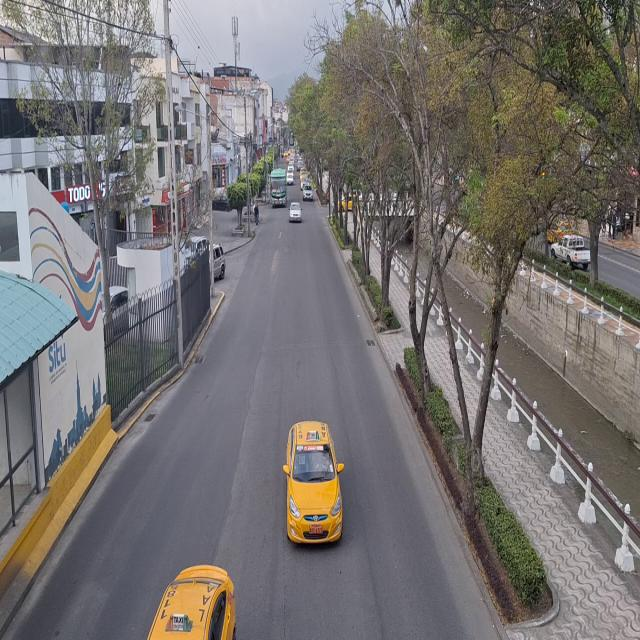BUS: (271, 169, 287, 205)
CMT: (551, 234, 591, 266)
SED: (288, 424, 344, 546)
